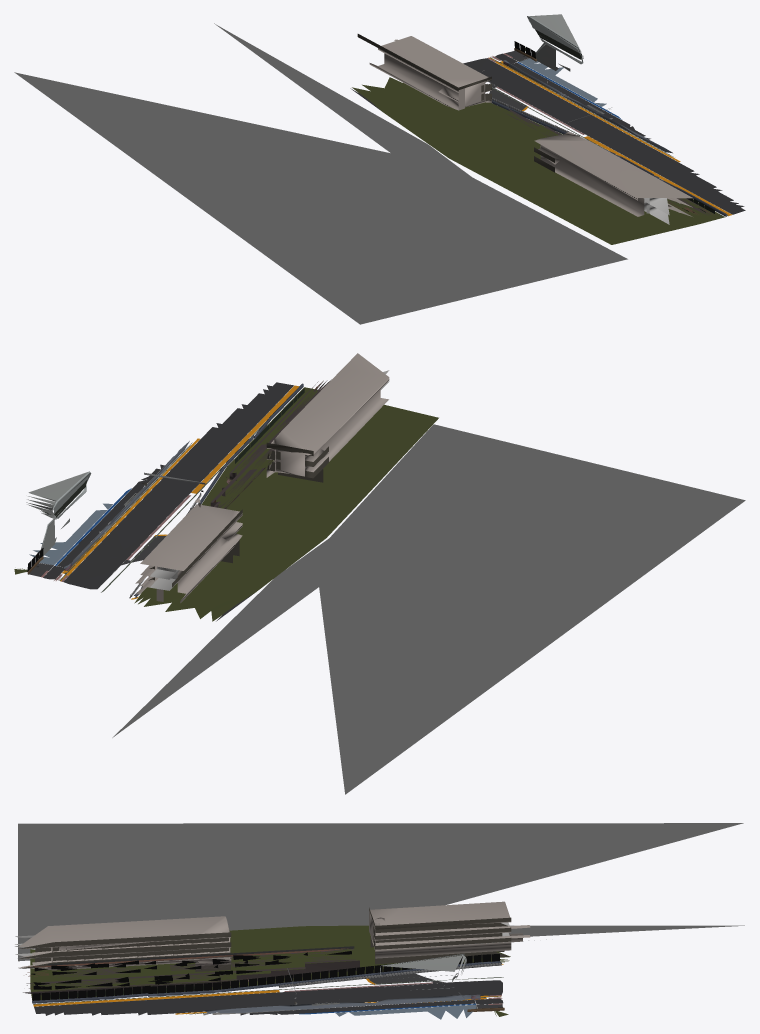
3 renders of one model, top to bottom at view 1: azimuth 30°, elevation 25°; view 2: azimuth 150°, elevation 25°; view 3: azimuth 270°, elevation 25°, orthographic. The views are drawn at different scales.
Parts seen in each view (by area): view 1: merged__lod1; view 2: merged__lod1; view 3: merged__lod1.
Part boxes in pixels (box(x1,y1,x2,y2)): merged__lod1: box(14, 14, 745, 324); merged__lod1: box(14, 353, 745, 794); merged__lod1: box(15, 823, 744, 1019).
Bounding box in the file's own units: 213 × 30.25 × 313.
